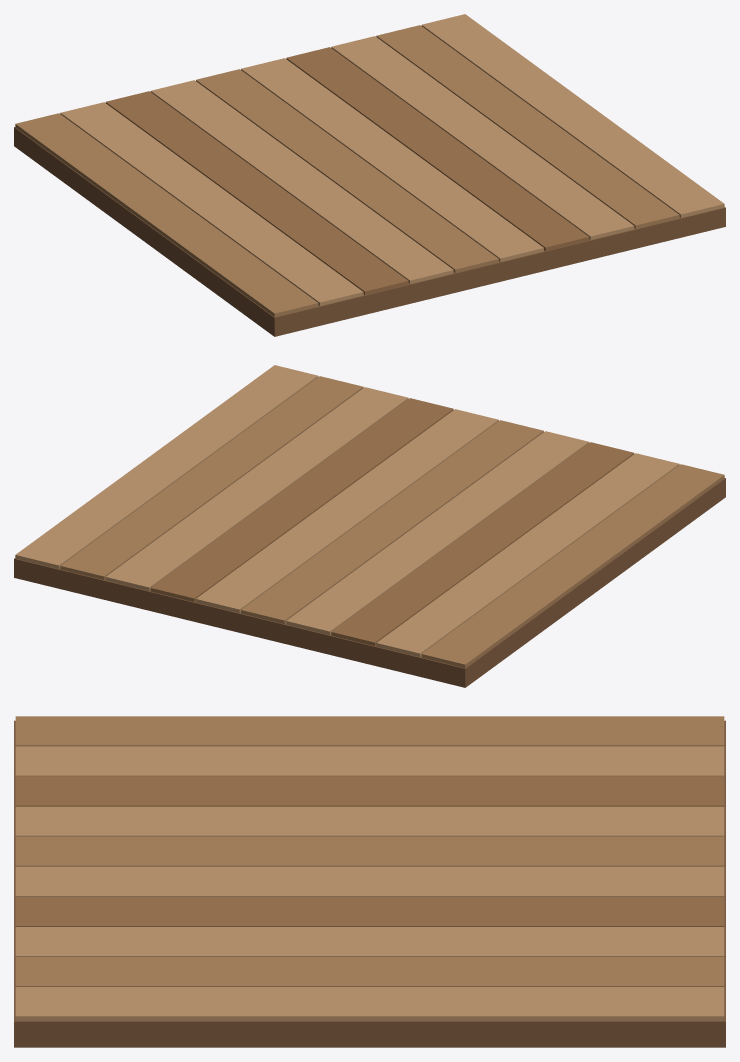
File: yx_floor_oak.glb
3 renders of one model, top to bottom at view 1: azimuth 30°, elevation 25°; view 2: azimuth 150°, elevation 25°; view 3: azimuth 270°, elevation 25°, orthographic. The views are drawn at different scales.
Parts seen in each view (by area): view 1: yx_floor_oak; view 2: yx_floor_oak; view 3: yx_floor_oak.
Part boxes in pixels (box(x1,y1,x2,y2)): yx_floor_oak: box(14, 14, 725, 336); yx_floor_oak: box(14, 365, 725, 687); yx_floor_oak: box(14, 716, 725, 1047).
Bounding box in the file's own units: 2.5 × 0.12 × 2.5.
